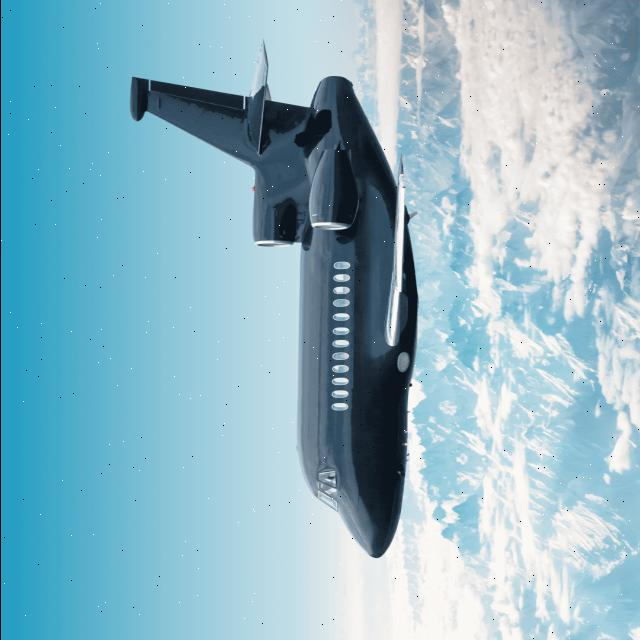jet: (90, 16, 498, 572)
